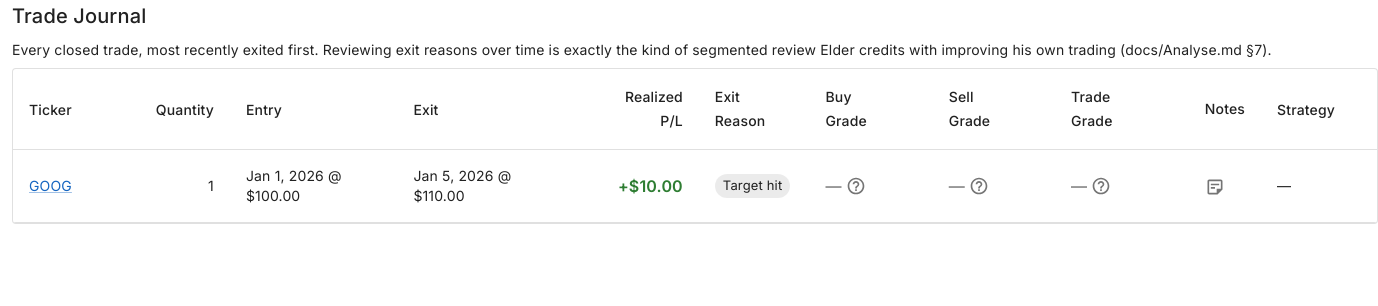
Test case: TradeJournalPanel › opens an InfoBalloon with the full entry note when one is present
Expected: the link "GOOG" is shown, [29,177,72,194]
Click the button named "View entry notes" at x=1215, y=187, box [1205,177,1225,197]
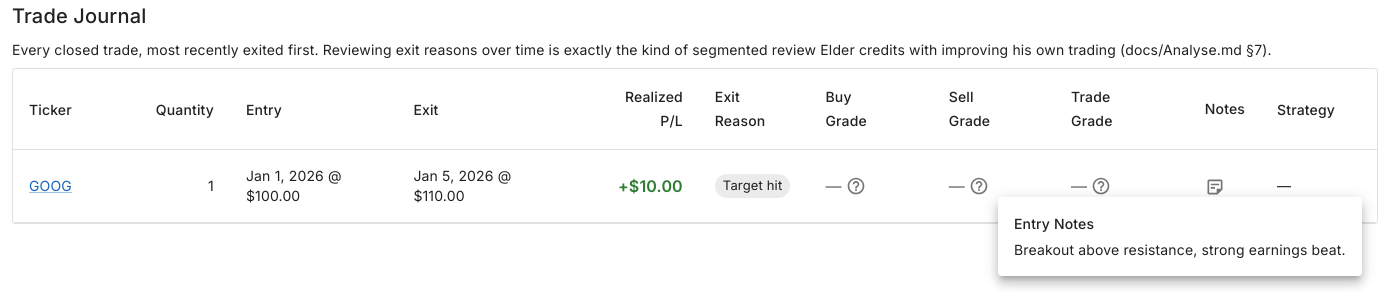
Expected: the heading "Entry Notes" is shown, [1014,215,1094,232]
Expected: the text "Breakout above resistance, strong earnings beat." is shown, [1014,240,1346,260]
